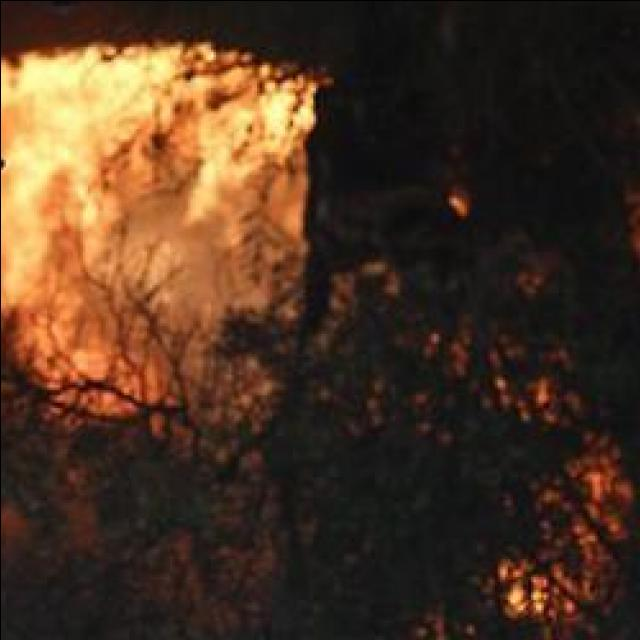fire: (0, 49, 149, 275)
